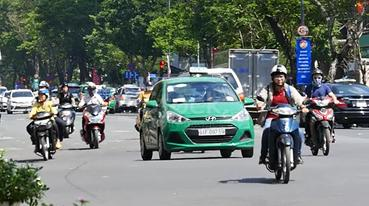car: (129, 71, 263, 163)
motorcycle: (253, 77, 308, 186), (303, 72, 343, 158), (71, 90, 115, 153), (25, 97, 64, 164), (58, 92, 77, 146)
